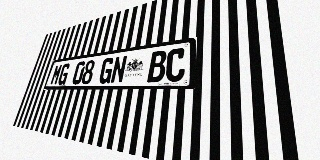0: (71, 61, 86, 84)
8: (80, 59, 96, 84)
B: (147, 50, 167, 82)
C: (165, 47, 186, 82)
G: (98, 57, 115, 84), (57, 63, 71, 85)
M: (50, 64, 63, 85)
N: (110, 55, 128, 83)
